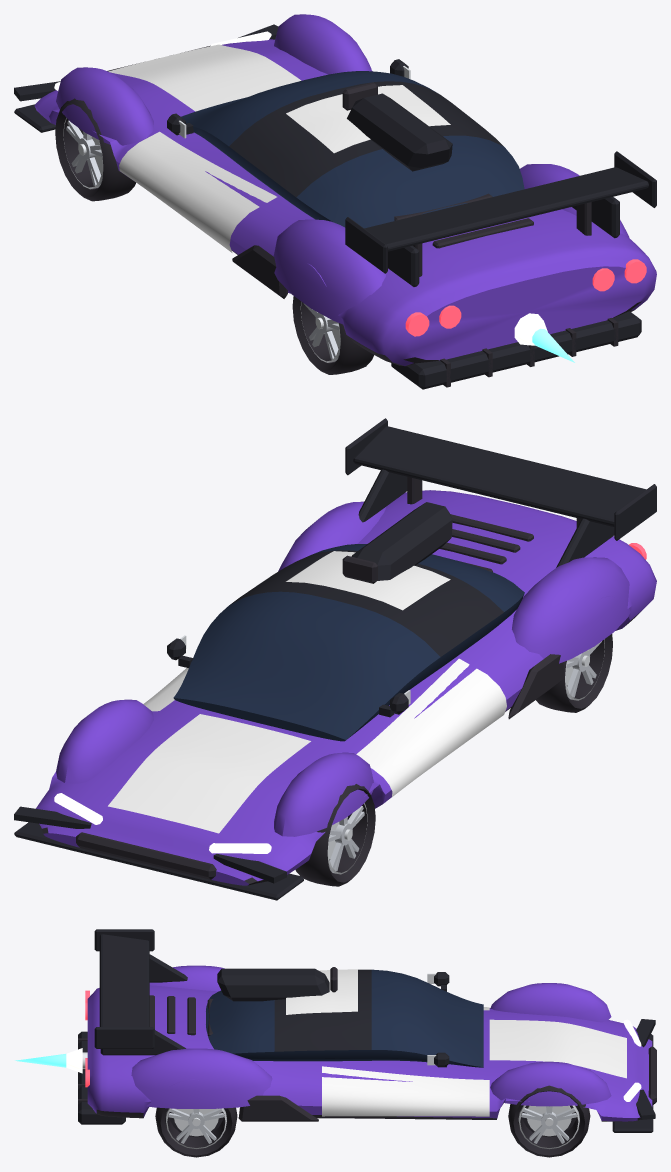
The model's file is car_super.glb.
3 views of the same model, one above another, from view 1: azimuth 30°, elevation 25°; view 2: azimuth 150°, elevation 25°; view 3: azimuth 270°, elevation 25° (orthographic). The views are drawn at different scales.
Parts seen in each view (by area): view 1: Body, Vinyl, Spoiler, WheelFL, WheelRL, NitroFlame; view 2: Body, Vinyl, Spoiler, WheelFL, WheelRL; view 3: Body, Vinyl, Spoiler, WheelFR, WheelRR, NitroFlame.
Part boxes in pixels (x1,y1,x2,y2): Body: (14,14,656,389); Vinyl: (108,44,450,252); Spoiler: (345,151,656,276); WheelFL: (55,98,135,201); WheelRL: (292,296,373,374); NitroFlame: (514,313,574,362); Body: (14,469,656,900); Vinyl: (108,551,506,833); Spoiler: (345,418,656,540); WheelFL: (295,784,375,886); WheelRL: (536,634,612,712); Body: (78,954,656,1132); Vinyl: (286,969,626,1116); Spoiler: (94,929,154,1048); WheelFR: (508,1085,590,1157); WheelRR: (155,1107,237,1157); NitroFlame: (15,1048,82,1073).
Size of the model in its own units: 2.17 by 1.28 by 5.38.
